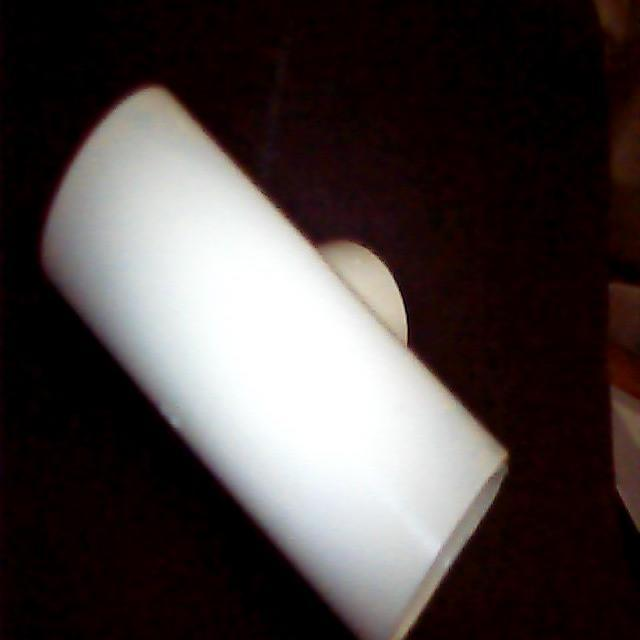T Joint: (37, 84, 510, 640)
